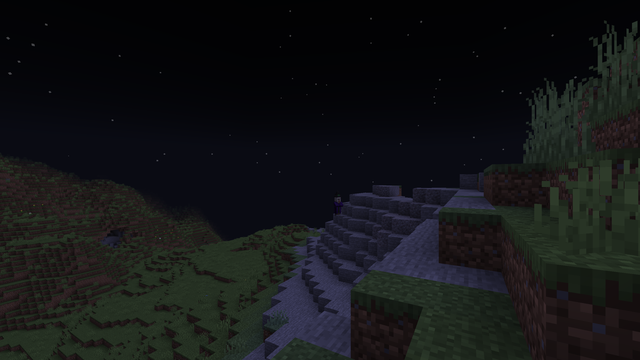sorcieres: (333, 196, 340, 216)
